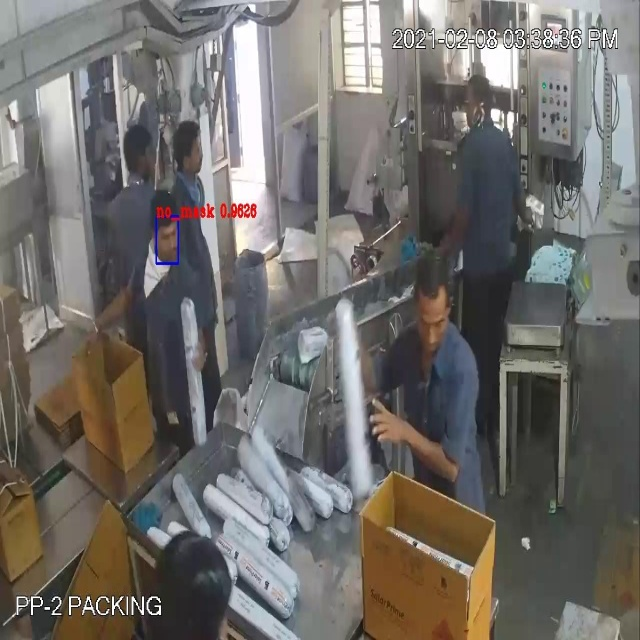Sin_guantes: (358, 390, 473, 495), (66, 280, 133, 353)
